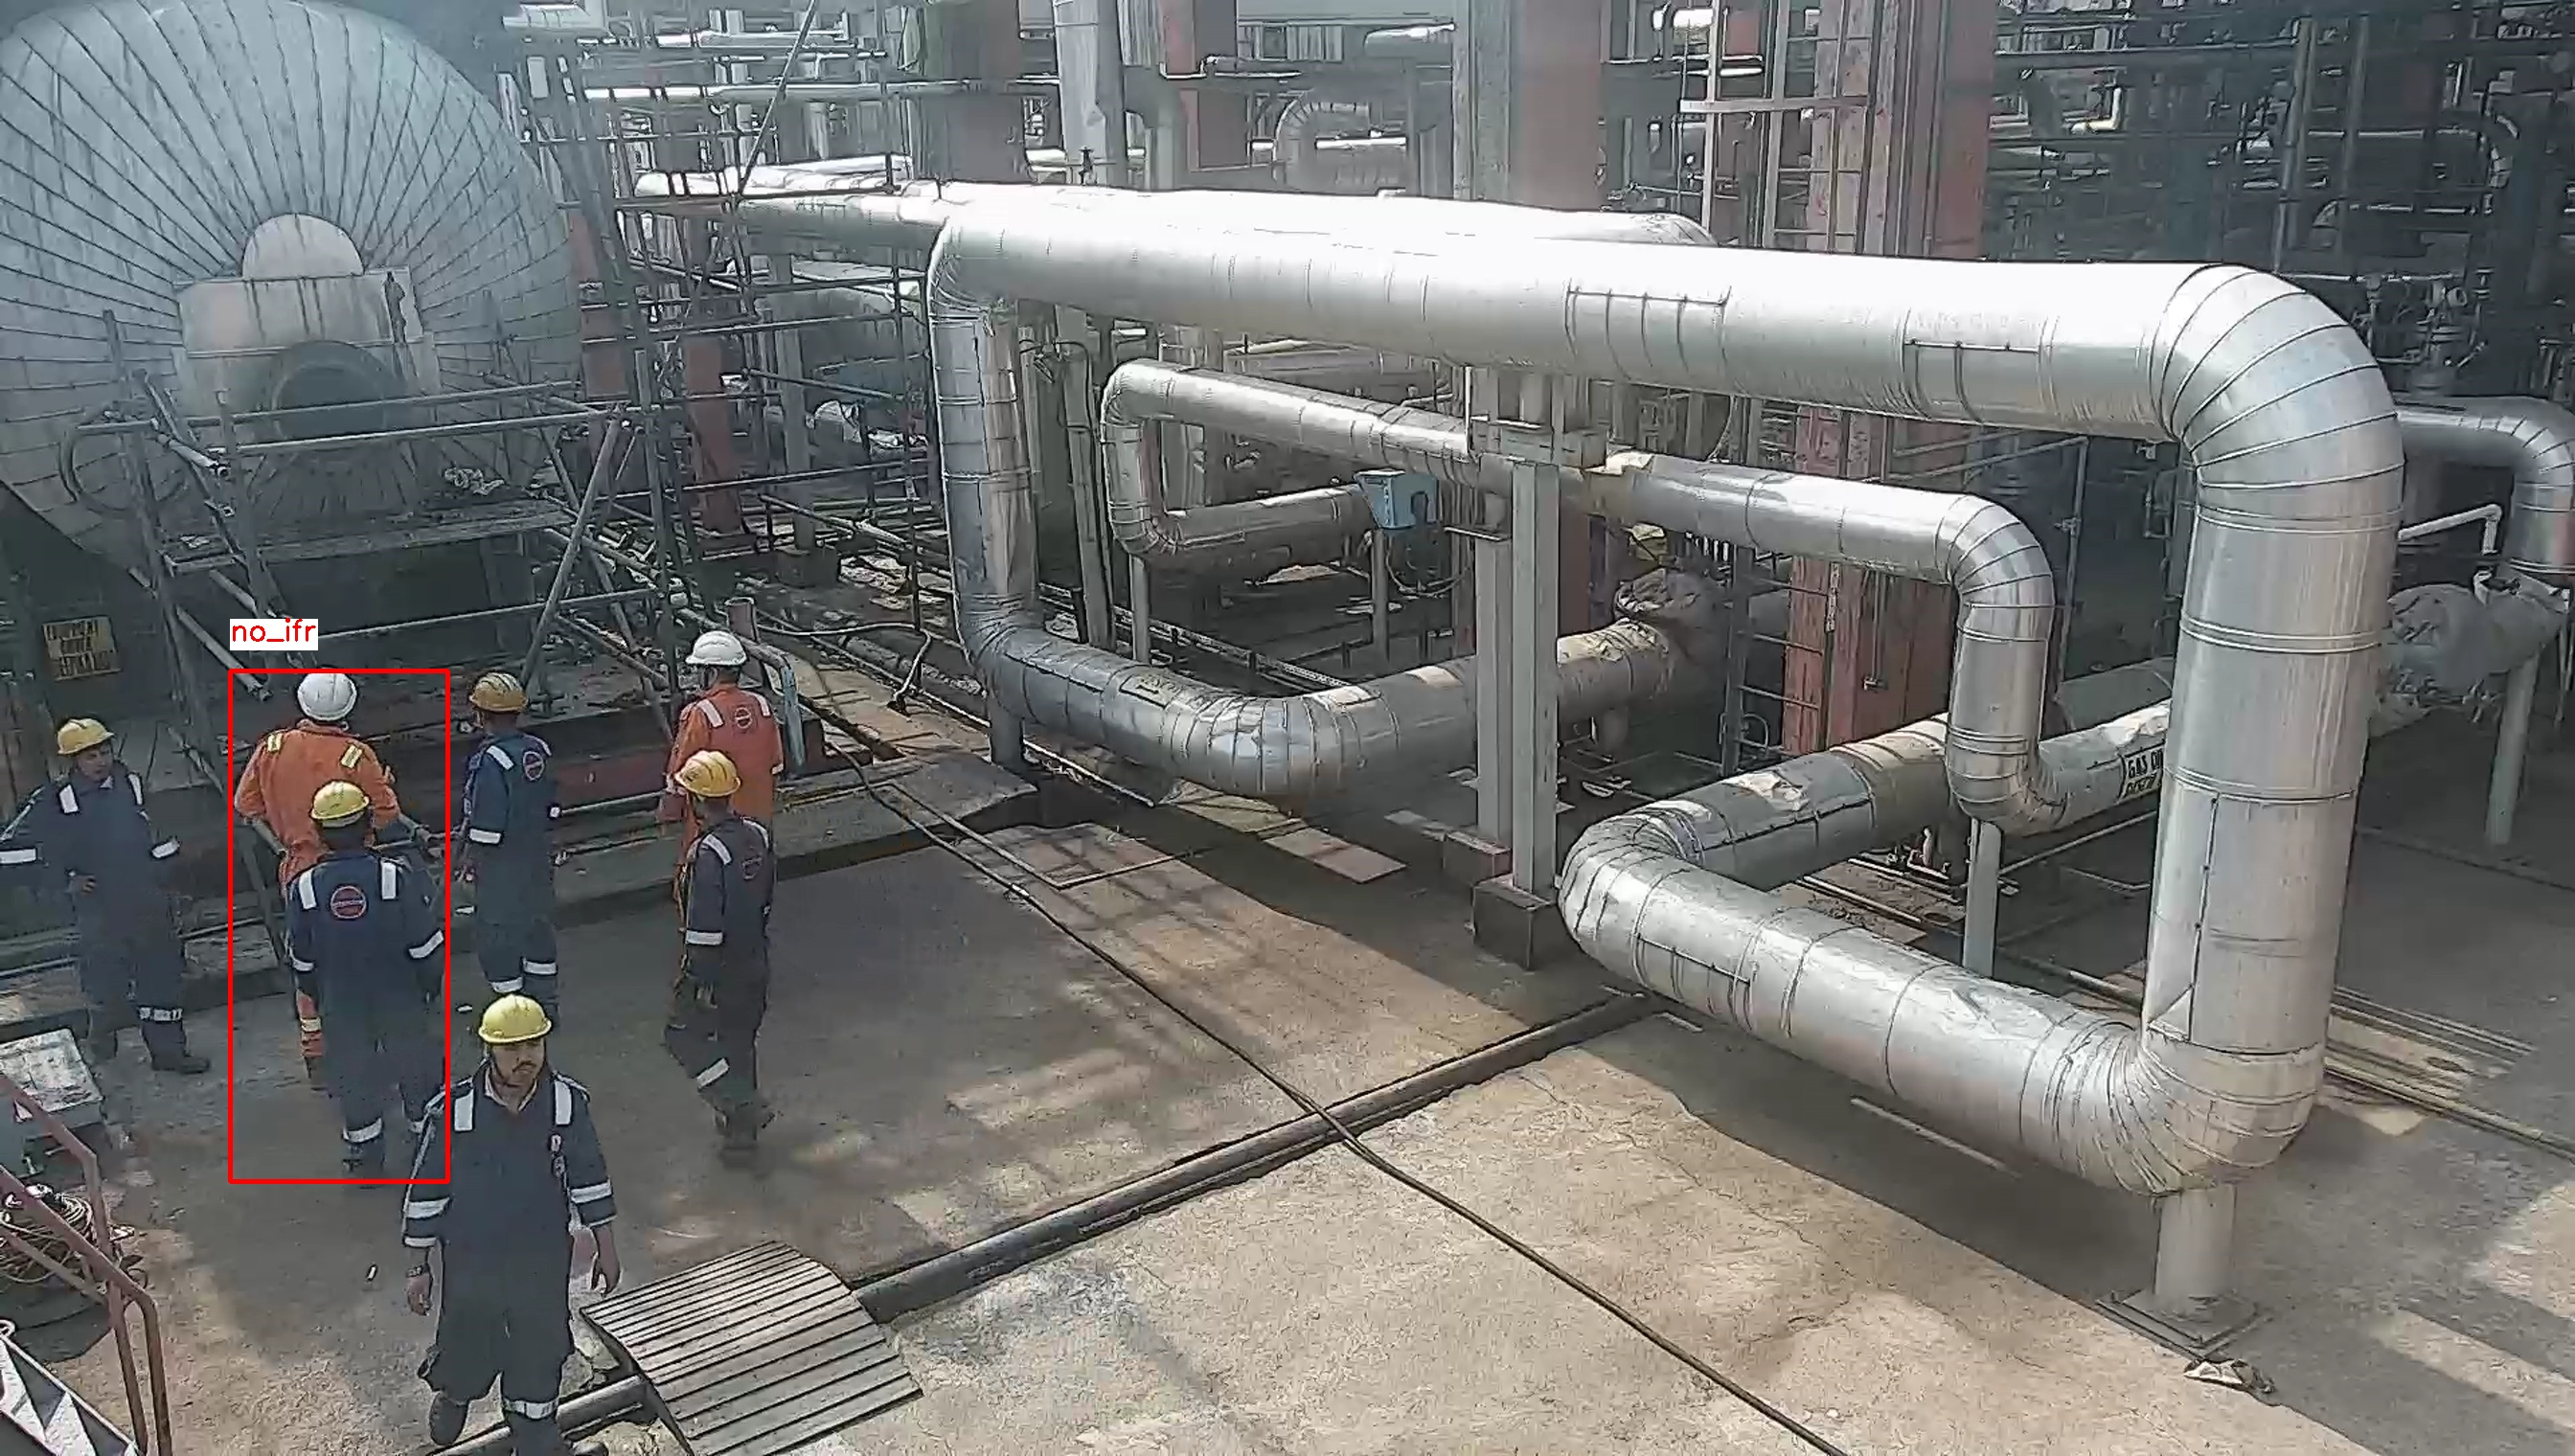Boots: (145, 1033, 216, 1077)
Helmets: (478, 991, 554, 1047), (676, 745, 745, 807), (48, 711, 120, 755), (465, 672, 531, 720), (679, 632, 753, 671)
IFR_Suit: (416, 1061, 624, 1394), (665, 814, 782, 1166), (294, 844, 433, 1129)
